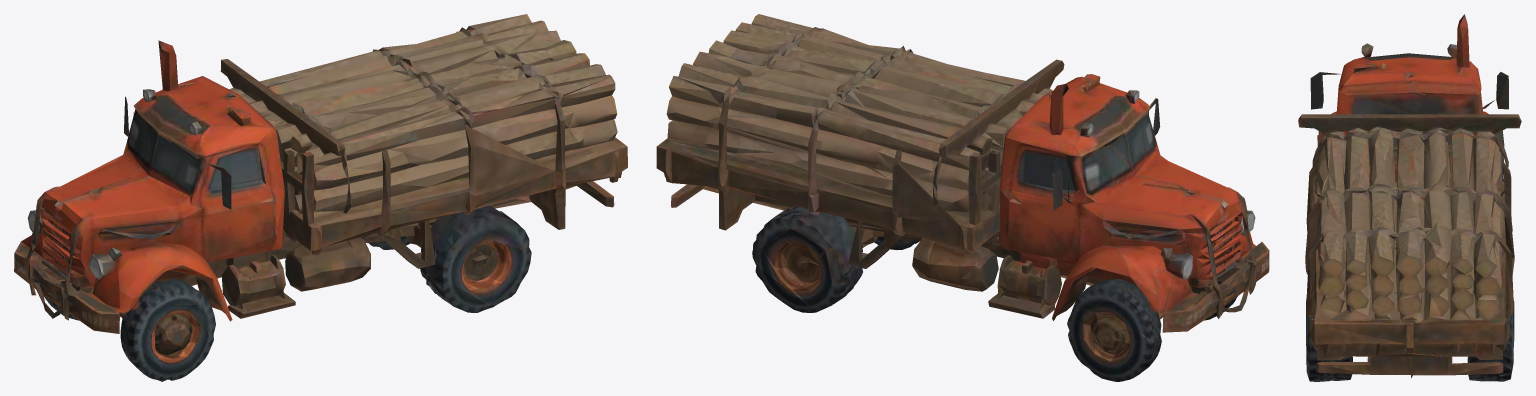
The model's file is scene_logging_truck.glb.
3 renders of one model, left to right at view 1: azimuth 30°, elevation 25°; view 2: azimuth 150°, elevation 25°; view 3: azimuth 270°, elevation 25°, orthographic. The views are drawn at different scales.
Size of the model in its own units: 1.89 by 0.9119 by 0.7305.
Materials: 1 (1 with a texture image).
